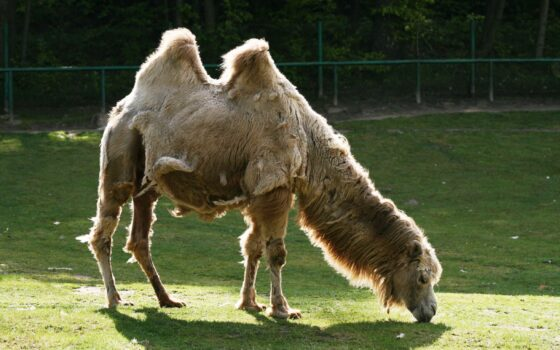camel: (70, 22, 444, 338)
